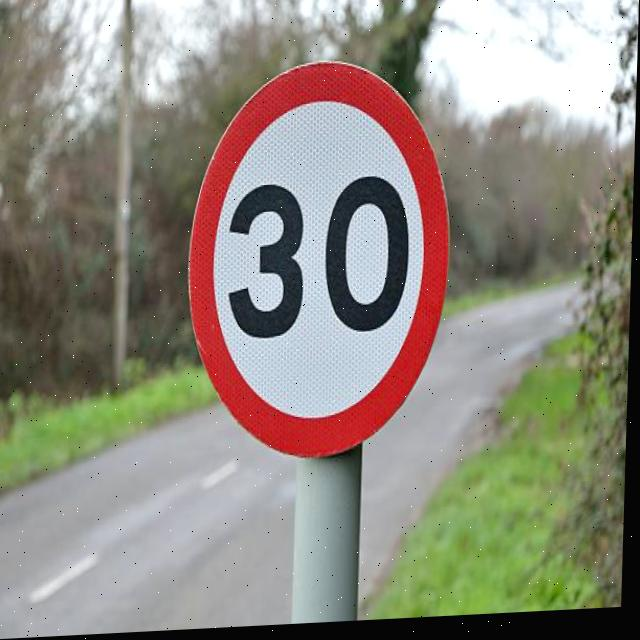Speed limit 30: (184, 57, 459, 471)
